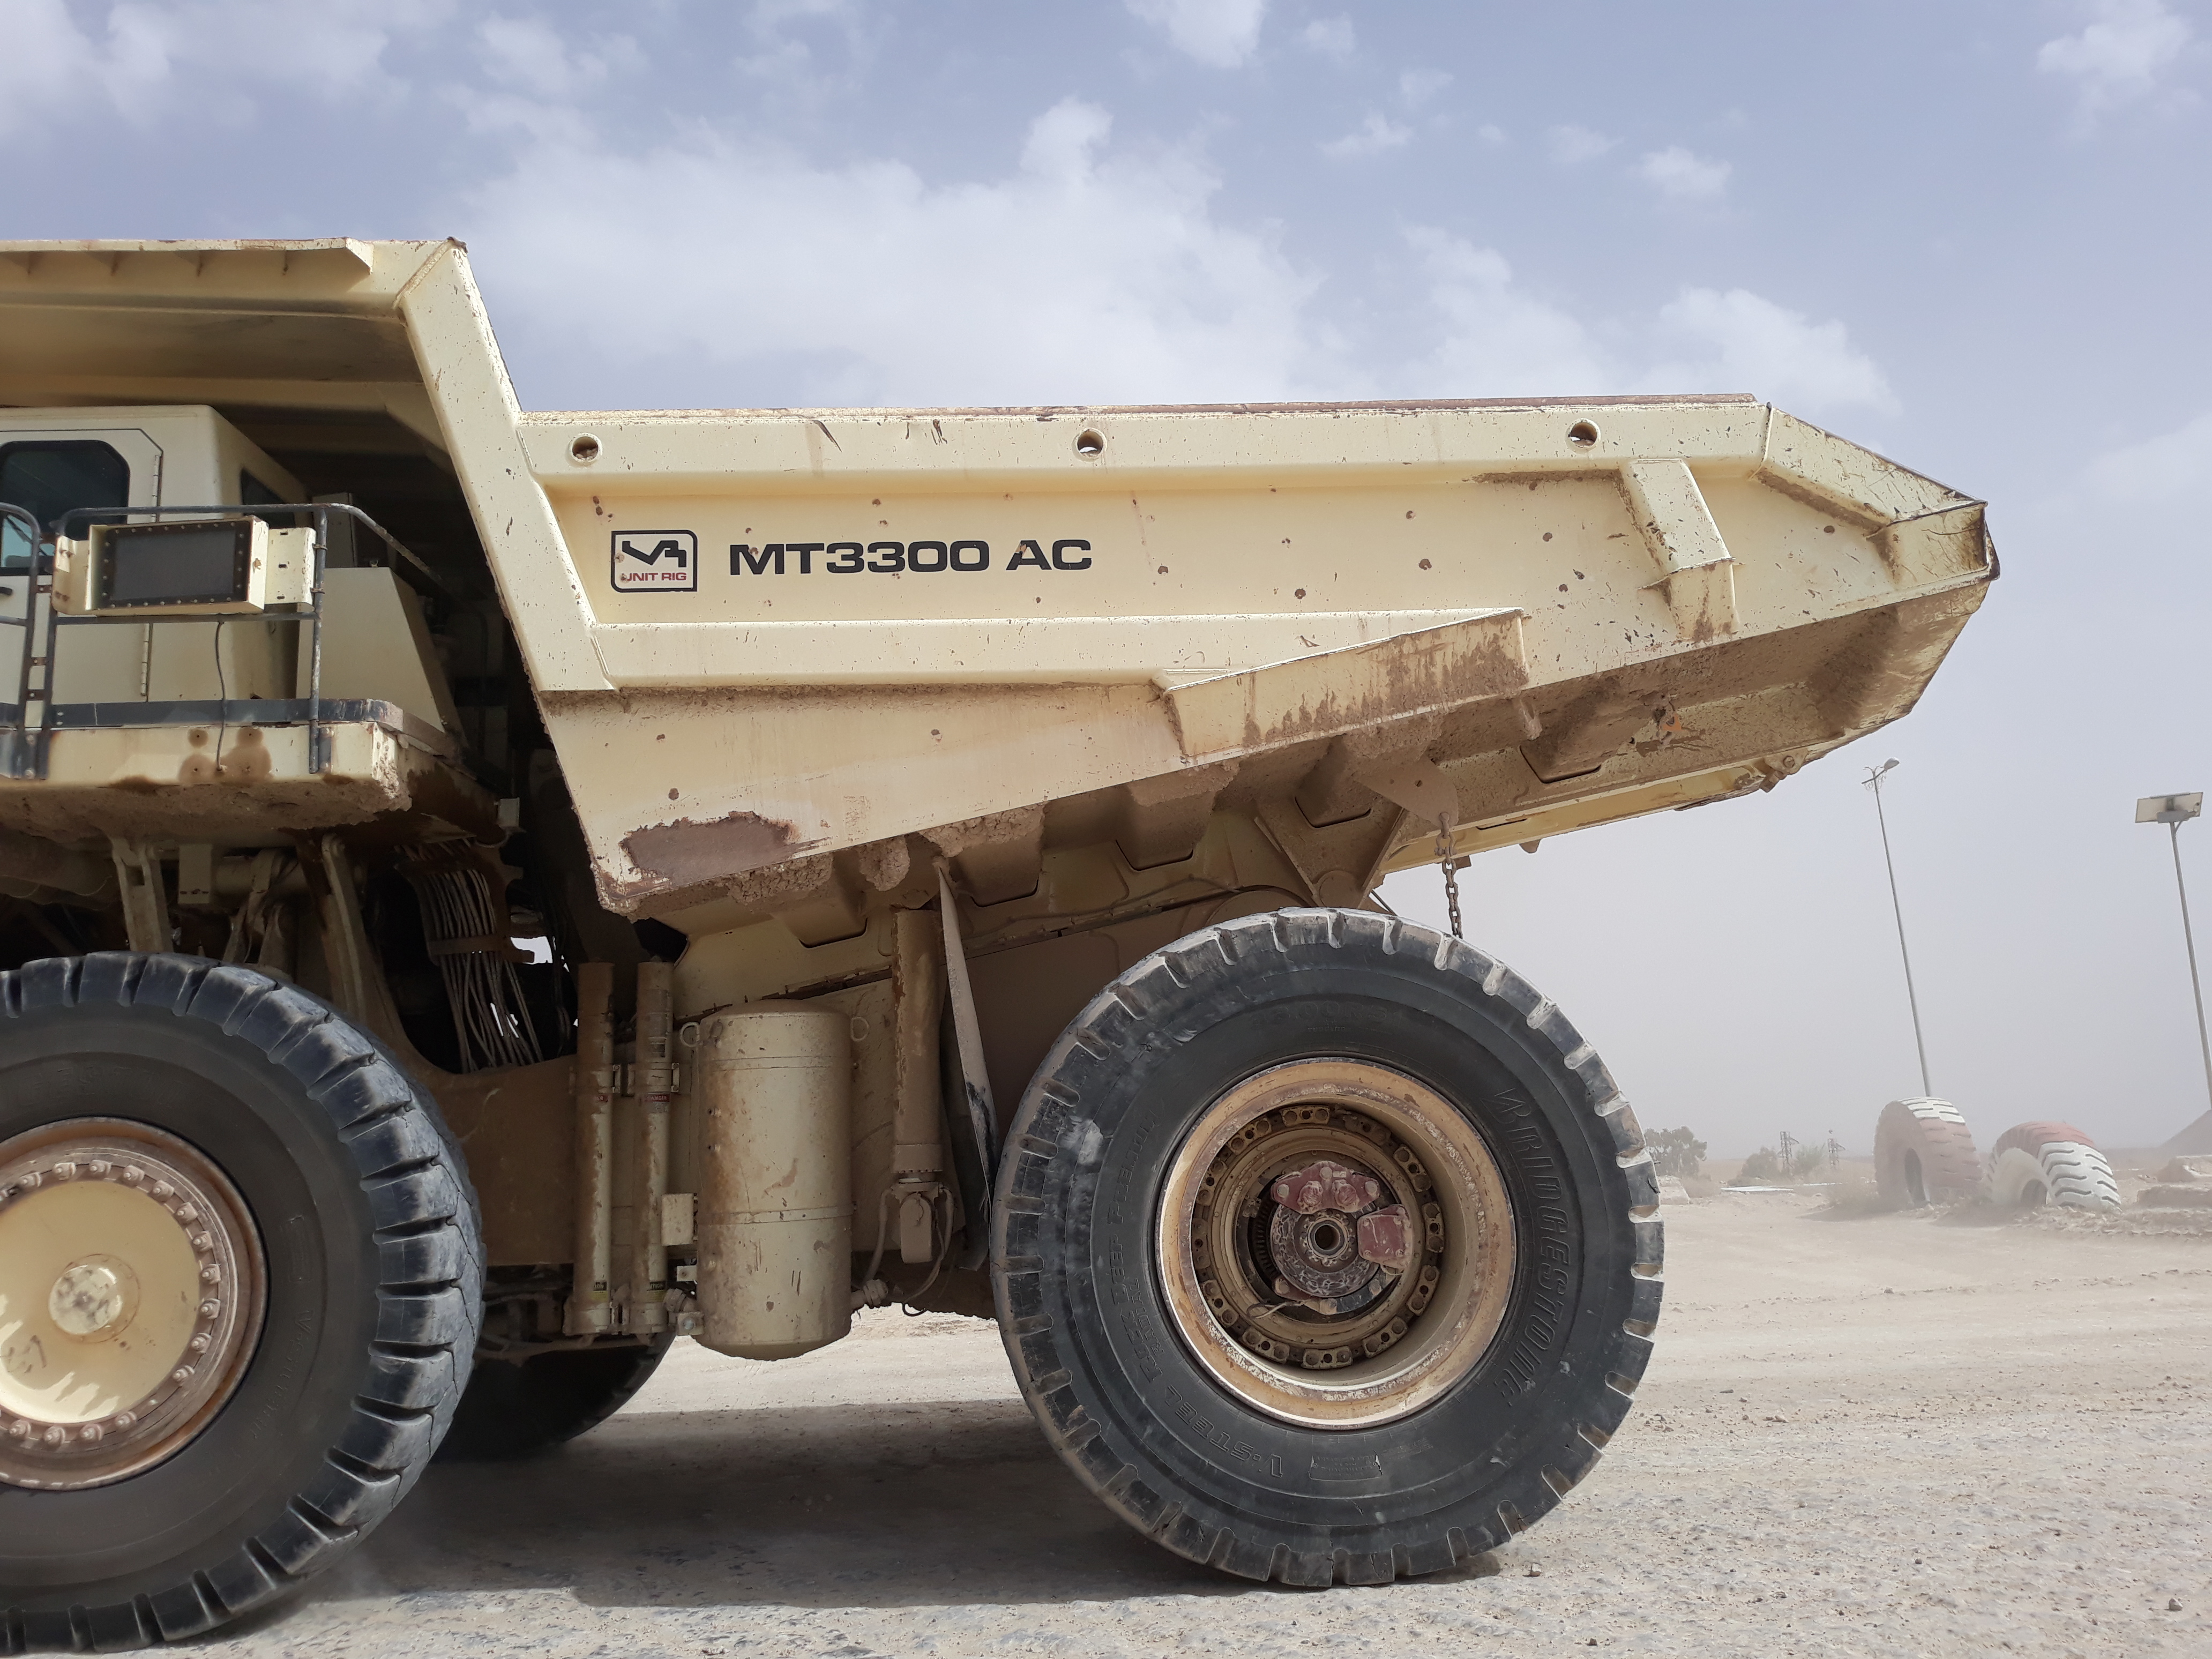camion: (0, 211, 2001, 1645)
